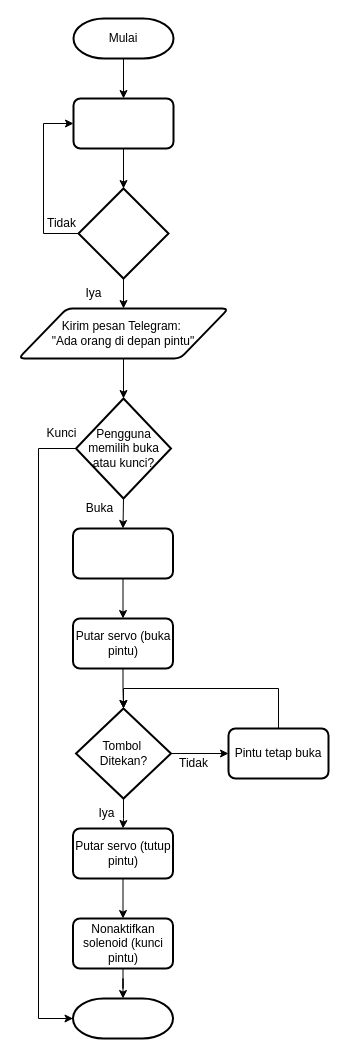
The diagram is 346 pixels wide and 1056 high, and some of its shapes have lost their labels. The shapes that lost their labels are listed below. From the top down, each one's centre as x and y in pixels, then its label:
At point 123,123: "Sensor HCSR04 mendeteksi objek (jarak 5–15 cm)".
At point 123,233: "Objek terdeteksi selama 3 detik?".
At point 123,553: "Aktifkan solenoid (buka kunci)".
At point 123,1018: "Selesai".
